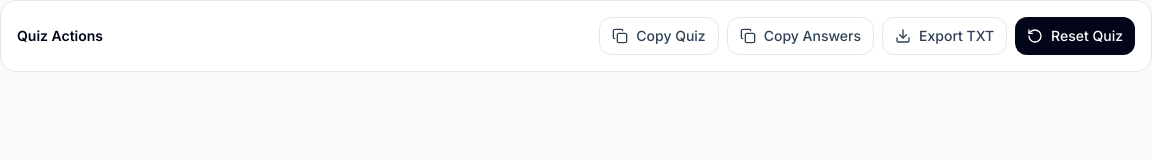
QuizActionBar › copies quiz
Step 1. Click the button "Copy Quiz" → coordinates (659, 36), box [599,17,719,55]
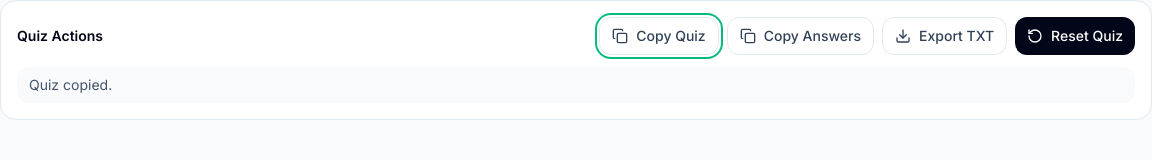
Result: the message with test id "quiz-action-status" reads "Quiz copied." at [29,76,112,93]
